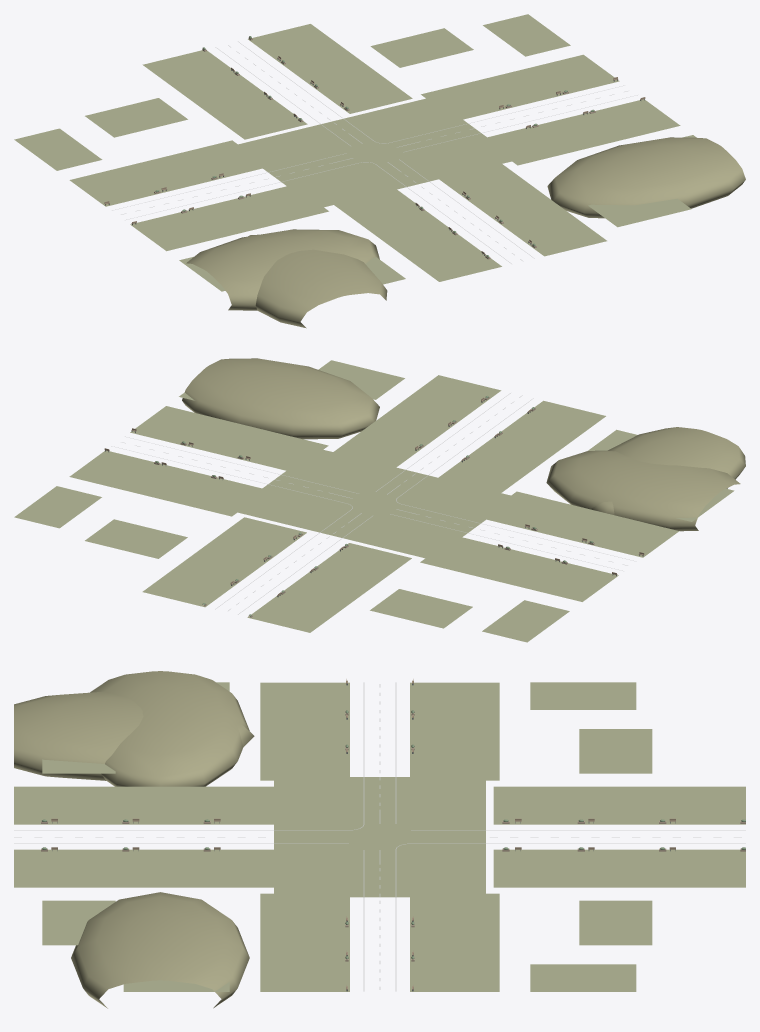
The picture shows the model from 3 angles, top to bottom: view 1: azimuth 30°, elevation 25°; view 2: azimuth 150°, elevation 25°; view 3: azimuth 270°, elevation 25°; orthographic projection. The views are drawn at different scales.
Visible parts, largest first — view 1: static; view 2: static; view 3: static.
Boxes of the visible parts, <box> form: static: <box>14,14,745,328</box>; static: <box>14,358,745,642</box>; static: <box>14,671,745,1008</box>.
Size of what is drawn, in the model's own units: 180 by 14.08 by 180.
